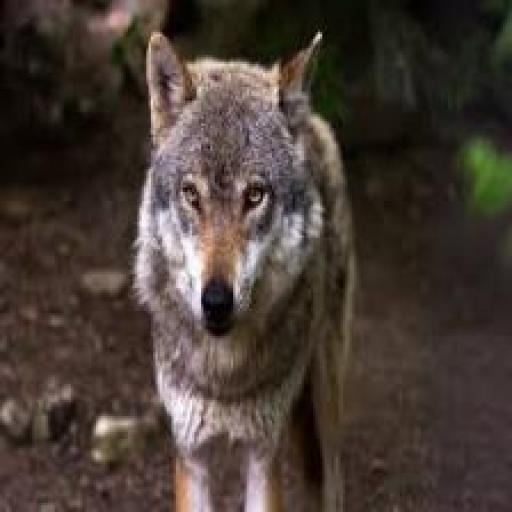wolf: (112, 16, 398, 512)
